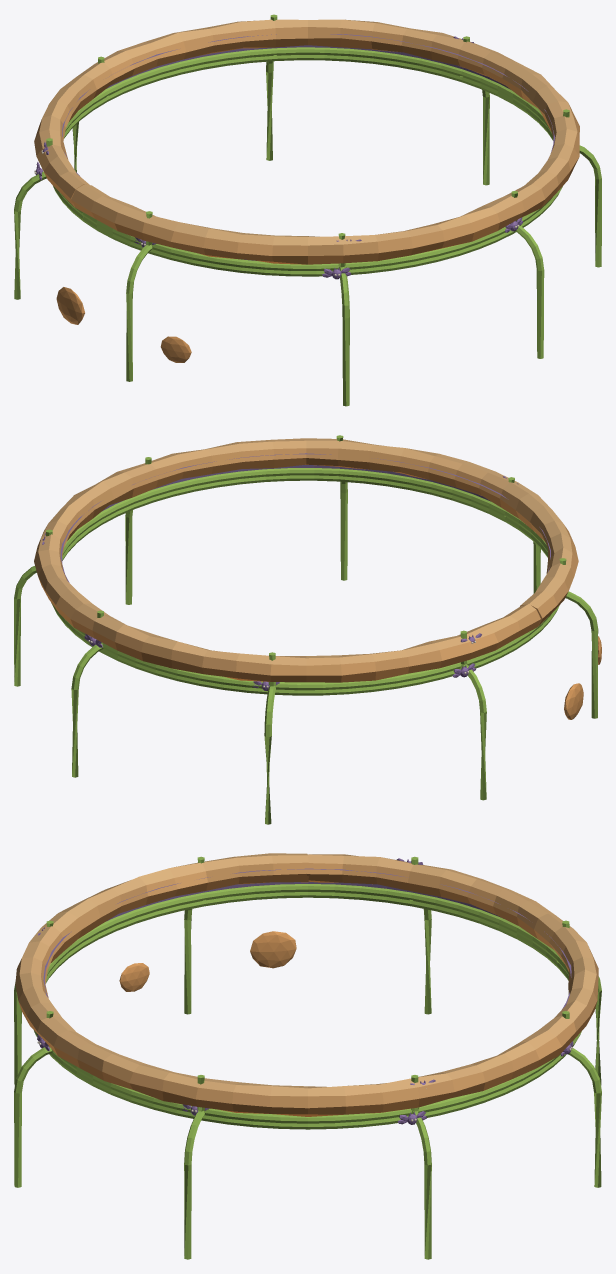
Rendered from goo_jar_trim_2_mid@haunted.fbx.
3 views of the same model, one above another, from view 1: azimuth 30°, elevation 25°; view 2: azimuth 150°, elevation 25°; view 3: azimuth 270°, elevation 25° (orthographic). The views are drawn at different scales.
Parts seen in each view (by area): view 1: goo_jar_trim_2_mid; view 2: goo_jar_trim_2_mid; view 3: goo_jar_trim_2_mid.
Boxes of the visible parts, left/top/right/bottom form: goo_jar_trim_2_mid: left=14, top=14, right=601, bottom=406; goo_jar_trim_2_mid: left=14, top=435, right=601, bottom=824; goo_jar_trim_2_mid: left=14, top=853, right=601, bottom=1259.
Size of the model in its own units: 53.09 by 16.05 by 50.92.
